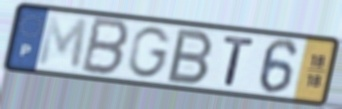6: (258, 37, 300, 96)
B: (78, 15, 133, 79), (164, 27, 216, 86)
G: (126, 25, 174, 80)
M: (35, 13, 90, 73)
T: (221, 34, 258, 88)
